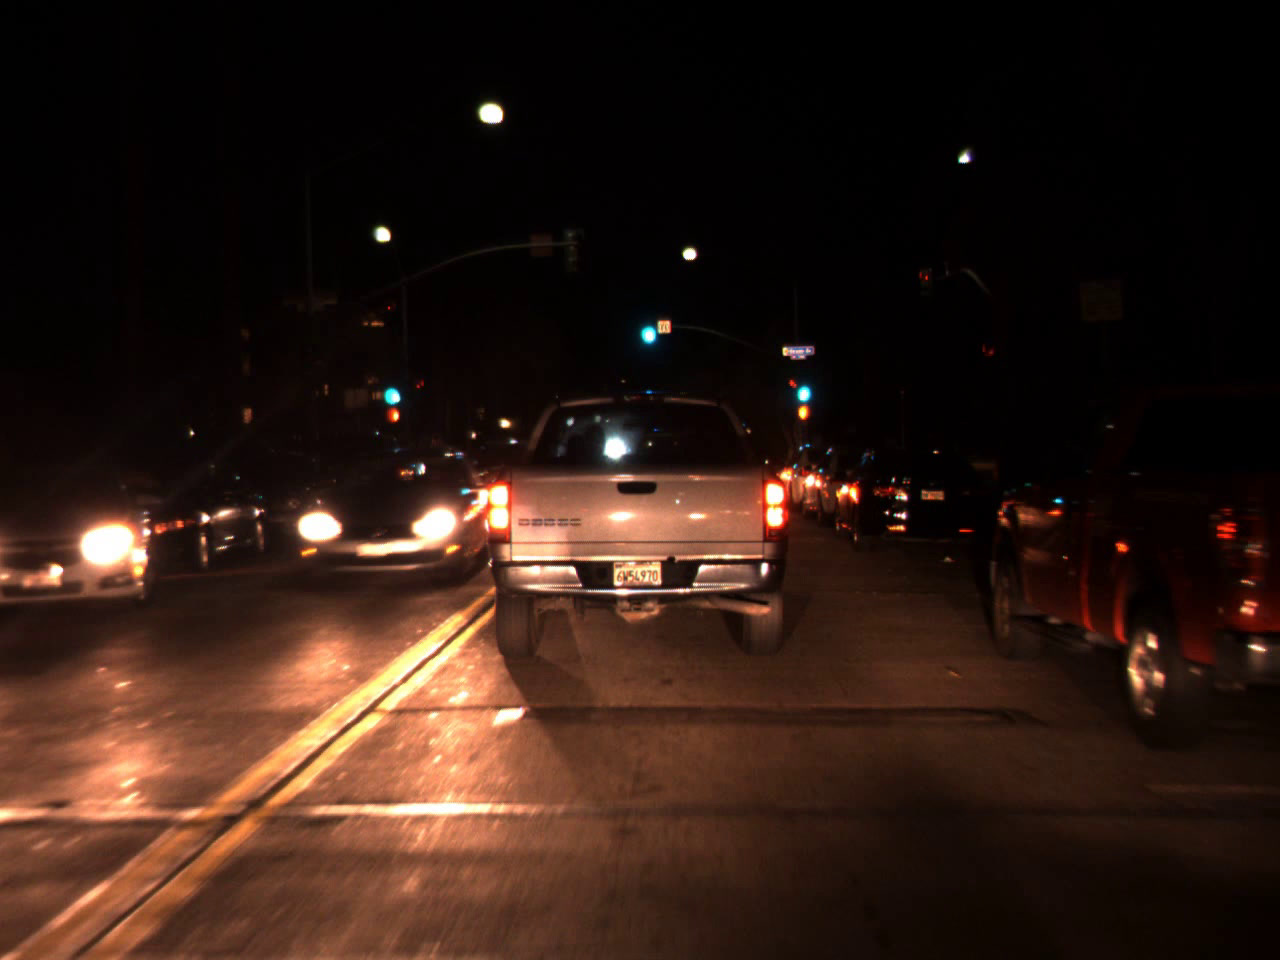go: (635, 307, 658, 349), (380, 366, 401, 411), (792, 366, 813, 408)
